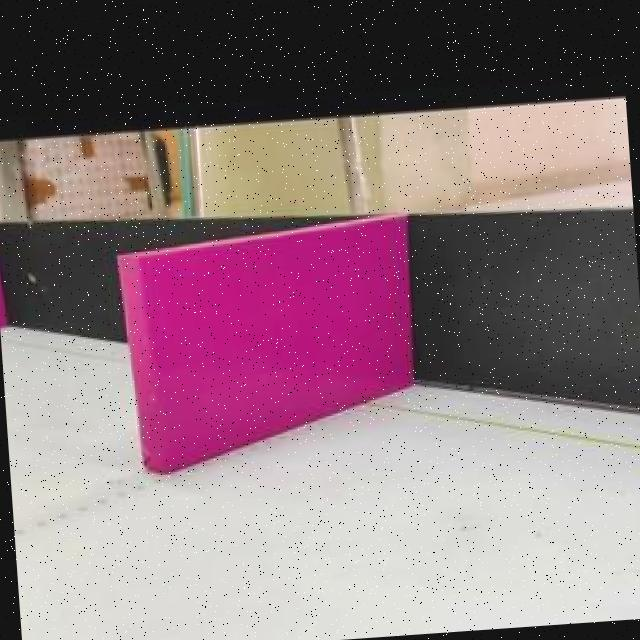xparking: (132, 234, 422, 473)
